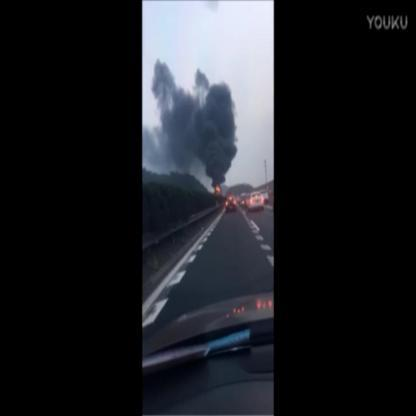smoke: (198, 69, 236, 187), (154, 62, 198, 160)
